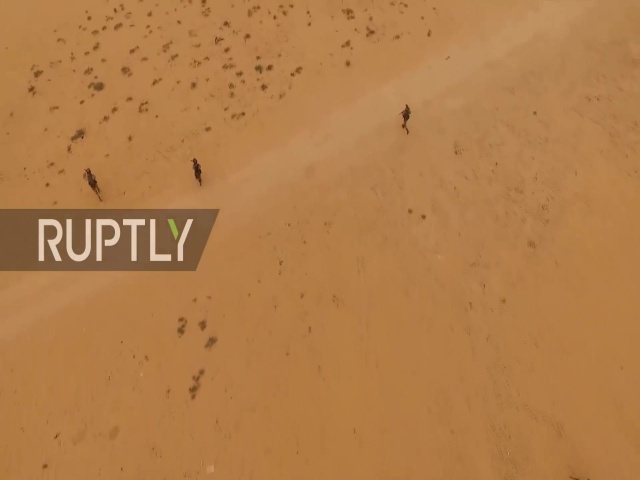person: (82, 168, 105, 204), (188, 156, 205, 189), (398, 104, 413, 136)
